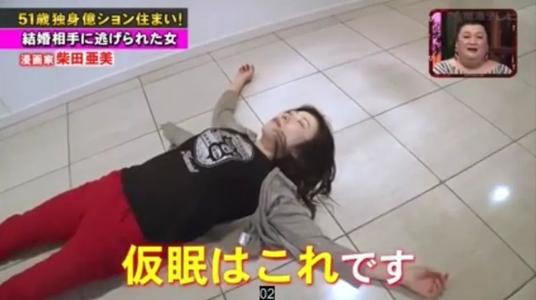fall: (9, 47, 345, 289)
